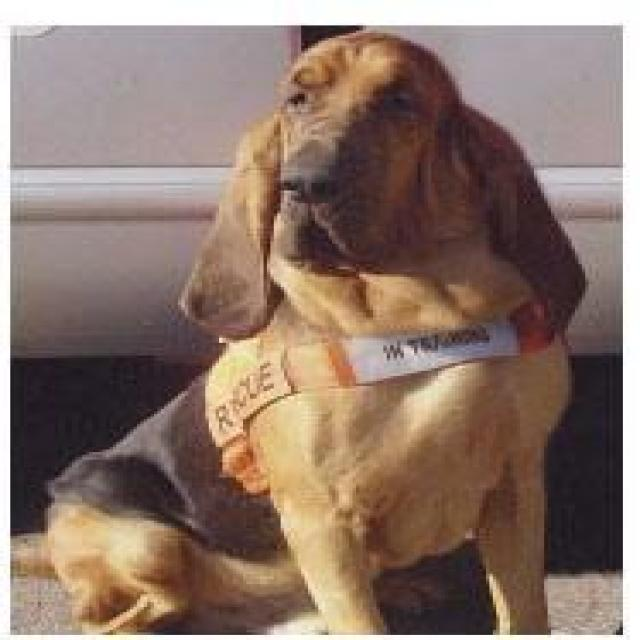bloodhound: (38, 28, 578, 632)
